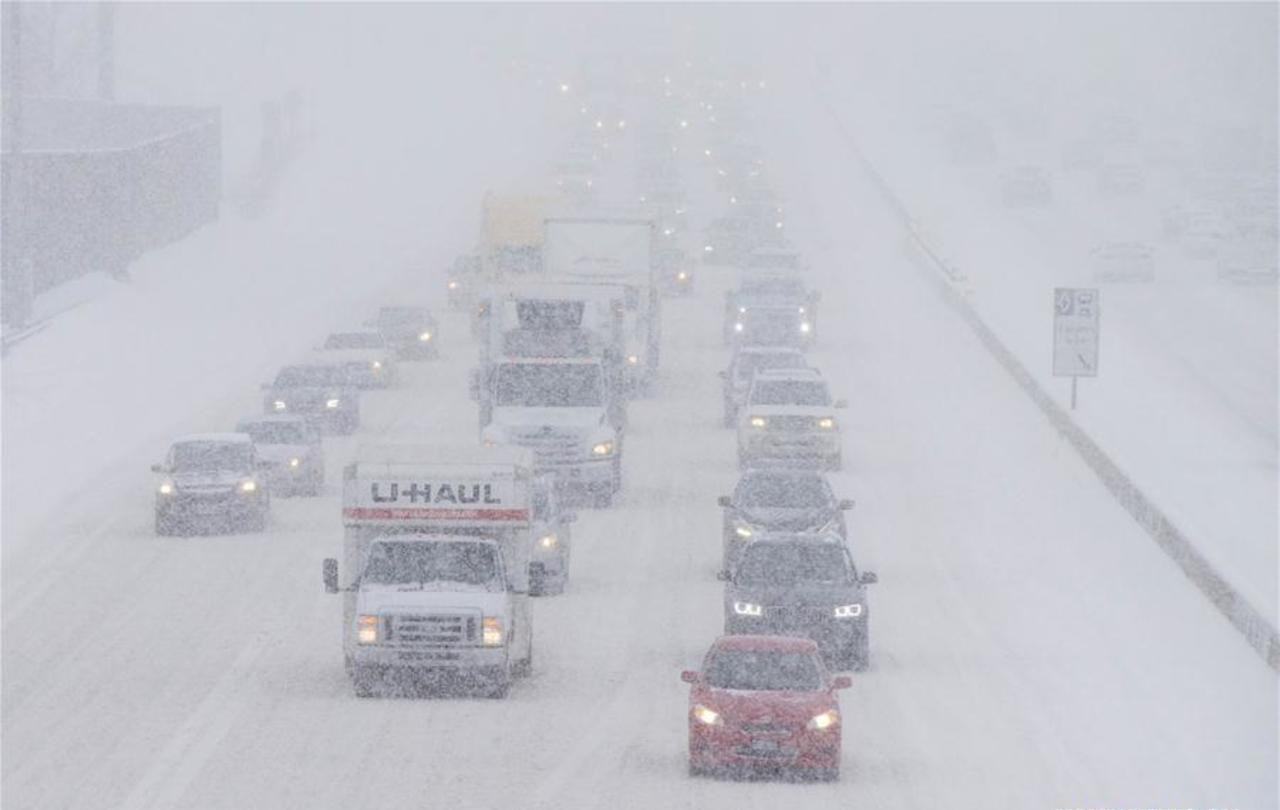car: (681, 632, 846, 783), (722, 520, 872, 679), (152, 432, 269, 538), (713, 471, 860, 549), (733, 375, 850, 460), (238, 412, 320, 493), (263, 367, 358, 432), (717, 344, 803, 415), (725, 281, 821, 341), (318, 328, 397, 384), (363, 300, 438, 356), (1086, 234, 1153, 282), (996, 164, 1058, 209), (747, 243, 817, 279), (696, 220, 762, 258), (445, 252, 479, 312), (655, 247, 694, 299), (1093, 156, 1145, 195), (549, 154, 599, 194), (637, 189, 688, 227), (725, 179, 782, 211), (716, 151, 762, 187), (589, 107, 631, 140)
truck: (329, 447, 527, 697), (473, 301, 620, 501), (555, 225, 652, 385), (481, 184, 559, 318)
